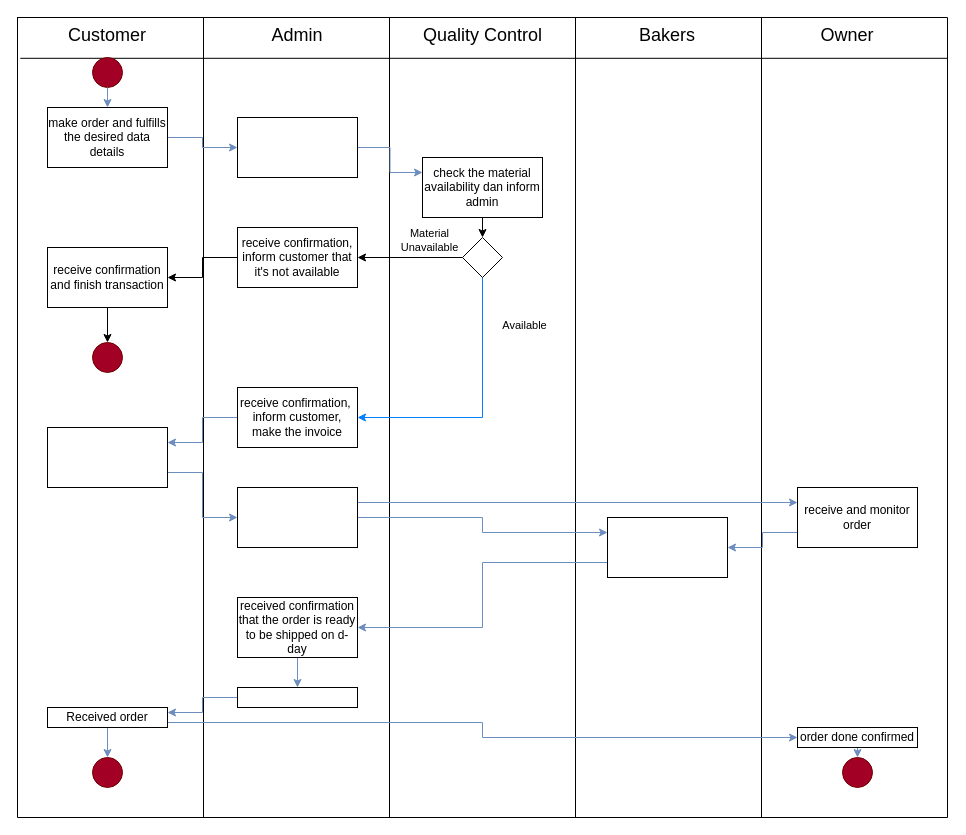
Image size: 966x835. Some labels were removed from this diagram. The centre of each missing label's shape, as x and y in pixels:
"receive confirmation and do payment" goes at point (107, 457).
"receive order and ask the QC about the material availability" goes at point (297, 147).
"receive order, scheduling, and bake it 1 day prior to send date" goes at point (667, 547).
"receive payment, inform bakers" goes at point (297, 517).
"tell the customer" goes at point (297, 697).
